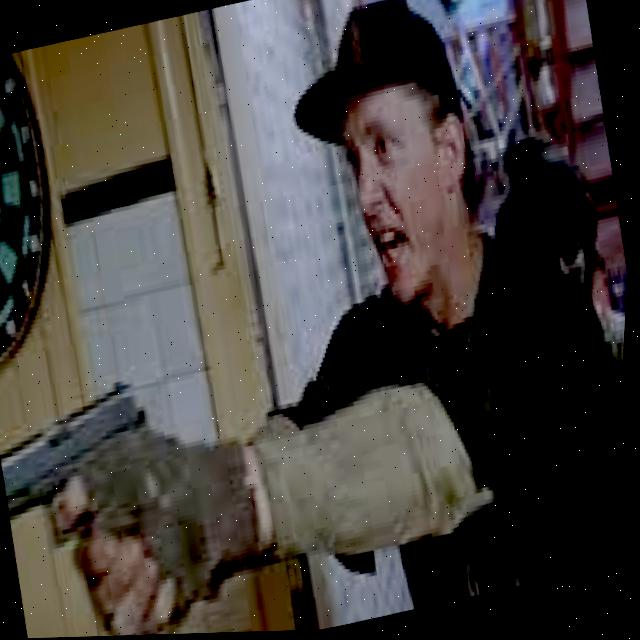pistol: (0, 373, 174, 559)
